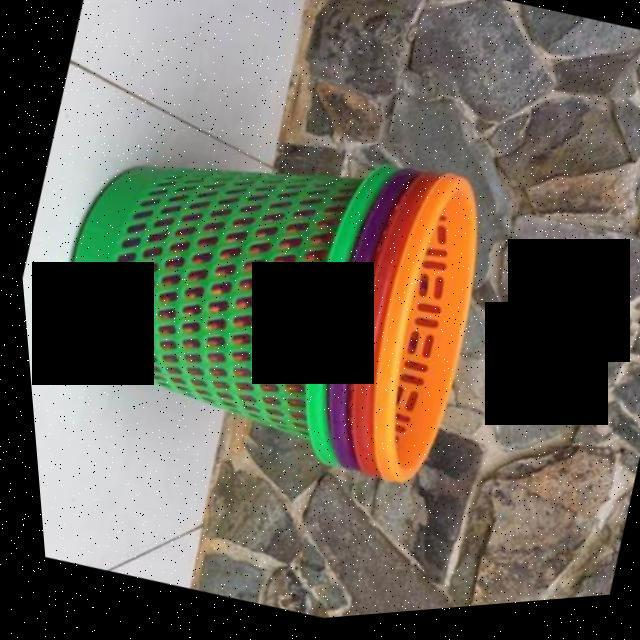bin: (4, 22, 573, 621)
